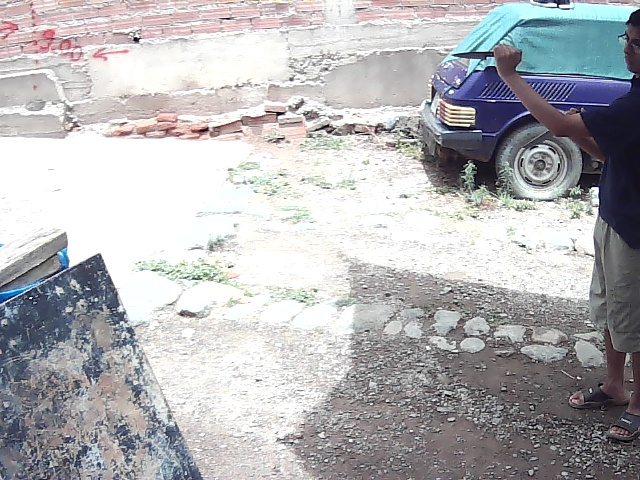cuchillo: (445, 43, 498, 65)
